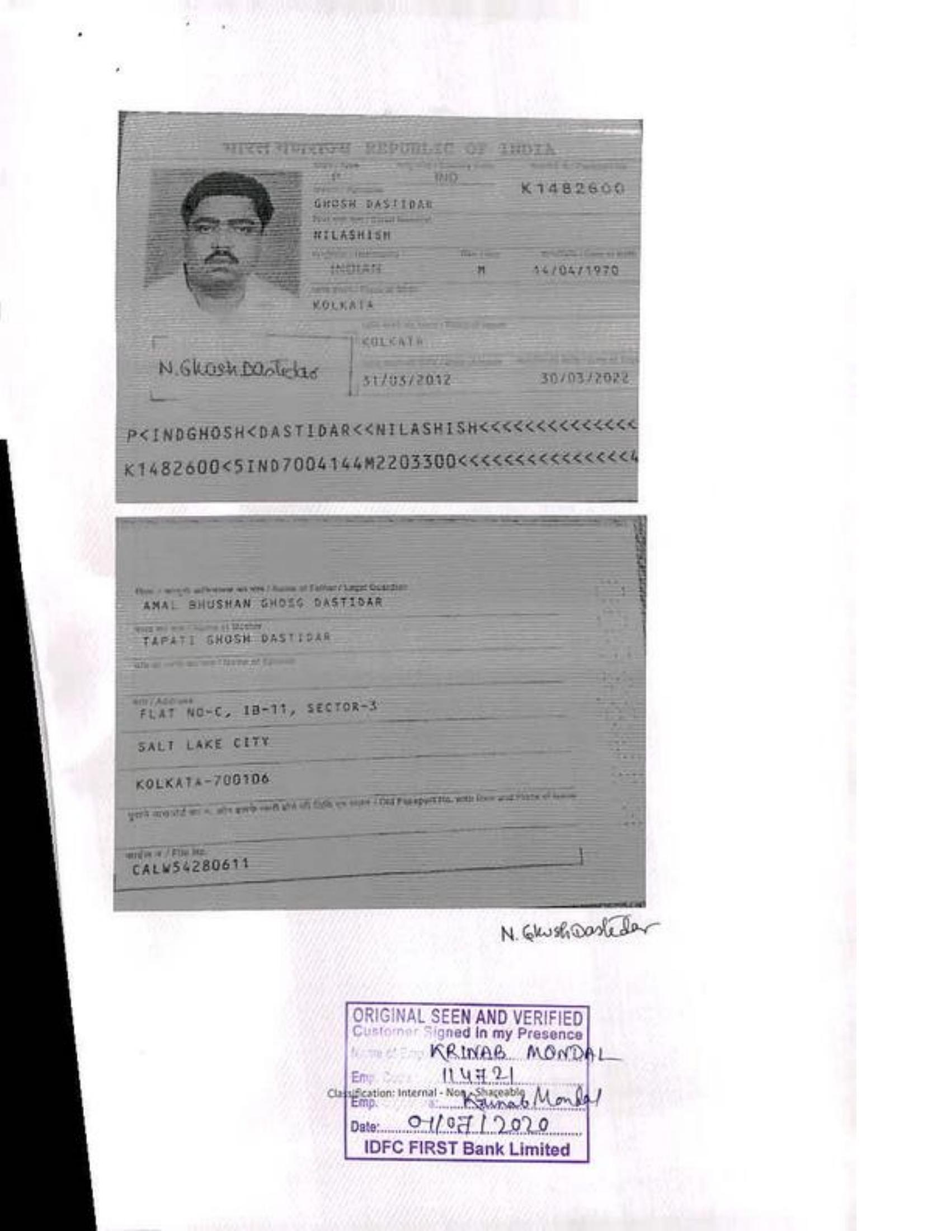DOB: (522, 259, 629, 283)
File_no: (124, 851, 268, 885)
Surname: (308, 187, 441, 219)
address: (124, 692, 387, 804)
date_of_expiry: (530, 365, 637, 389)
date_of_issue: (355, 368, 468, 394)
details: (123, 417, 639, 481)
father_name: (125, 590, 387, 618)
mother_name: (130, 630, 344, 654)
name: (308, 227, 451, 248)
nationality: (310, 257, 394, 281)
passport_no: (510, 176, 628, 202)
photo: (154, 173, 298, 336)
place_of_birth: (300, 293, 382, 323)
place_of_issue: (355, 329, 430, 359)
sex: (462, 257, 500, 283)
sign: (153, 351, 327, 389)
type: (319, 167, 351, 188)
